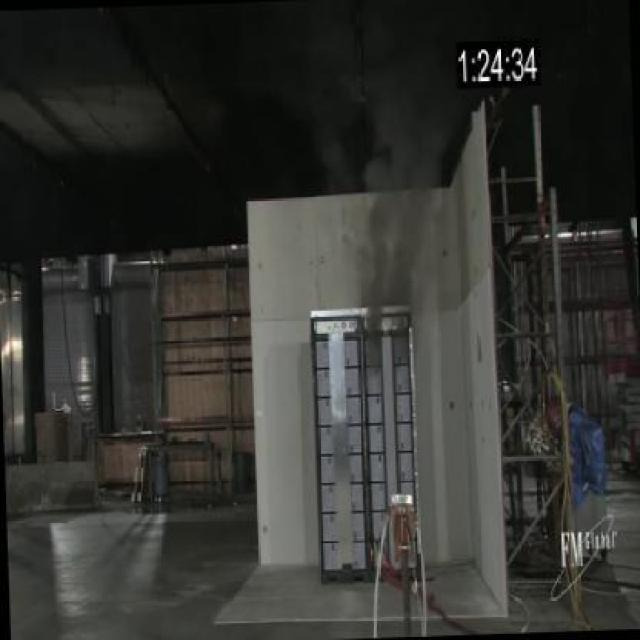fire: (358, 49, 467, 300)
